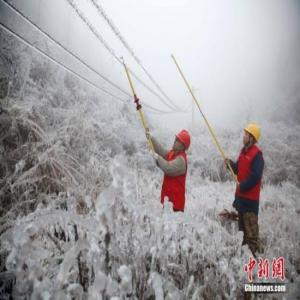red: (173, 129, 192, 156)
yellow: (243, 121, 261, 151)
